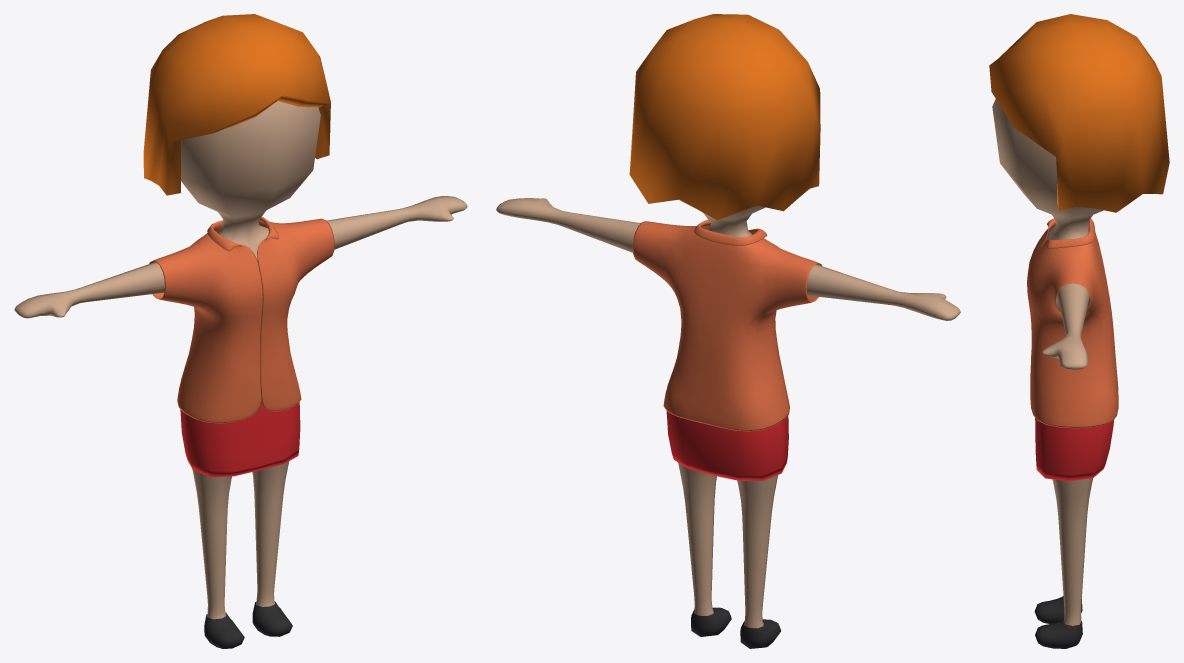
Rendered from body_woman2.fbx.
3 views of the same model, side by side, from view 1: azimuth 30°, elevation 25°; view 2: azimuth 150°, elevation 25°; view 3: azimuth 270°, elevation 25° (orthographic).
Parts seen in each view (by area): view 1: body_woman2, shirt_woman2, hair_woman2, skirt_woman2, shoe_woman2; view 2: hair_woman2, shirt_woman2, body_woman2, skirt_woman2, shoe_woman2; view 3: hair_woman2, shirt_woman2, body_woman2, skirt_woman2, shoe_woman2.
Part boxes in pixels (box(x1,y1,x2,y2)): body_woman2: box(14, 101, 467, 619); shirt_woman2: box(149, 216, 334, 423); hair_woman2: box(143, 14, 330, 195); skirt_woman2: box(180, 402, 300, 477); shoe_woman2: box(204, 601, 292, 648); hair_woman2: box(629, 14, 820, 220); shirt_woman2: box(632, 219, 821, 431); body_woman2: box(496, 198, 960, 628); skirt_woman2: box(666, 411, 788, 480); shoe_woman2: box(691, 607, 780, 648); hair_woman2: box(989, 14, 1169, 212); shirt_woman2: box(1027, 218, 1118, 428); body_woman2: box(992, 99, 1103, 625); skirt_woman2: box(1035, 418, 1113, 481); shoe_woman2: box(1034, 596, 1082, 648).
Bounding box in the file's own units: 156 × 204 × 54.5.
